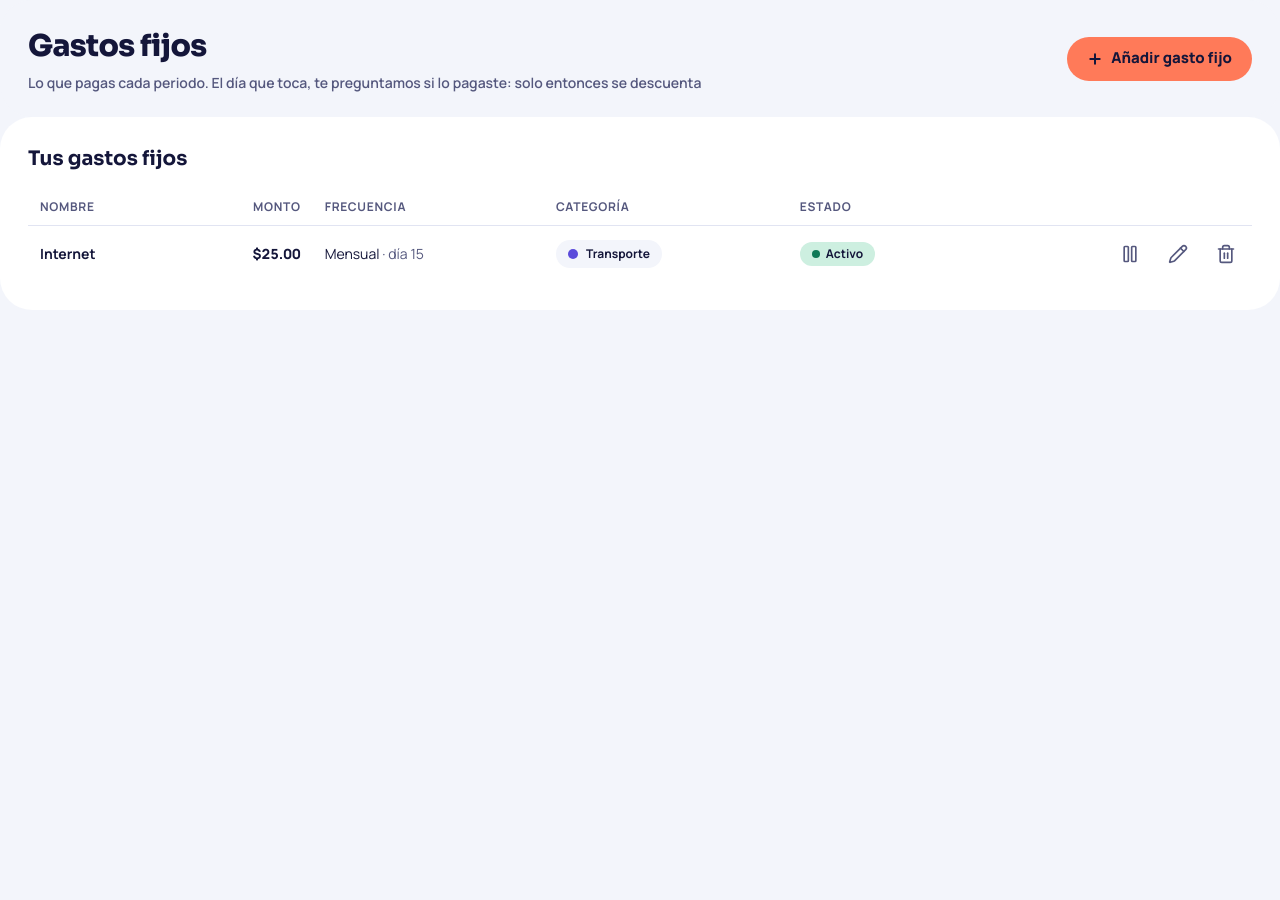
Test case: FixedExpensesPage › asks for the day count when the frequency is custom
The image size is (1280, 900).
Expected: the column heading "Internet" is shown, 28,226 -> 177,282
Click the button "Añadir gasto fijo" at point(1160, 58), box 1067,36 -> 1252,80
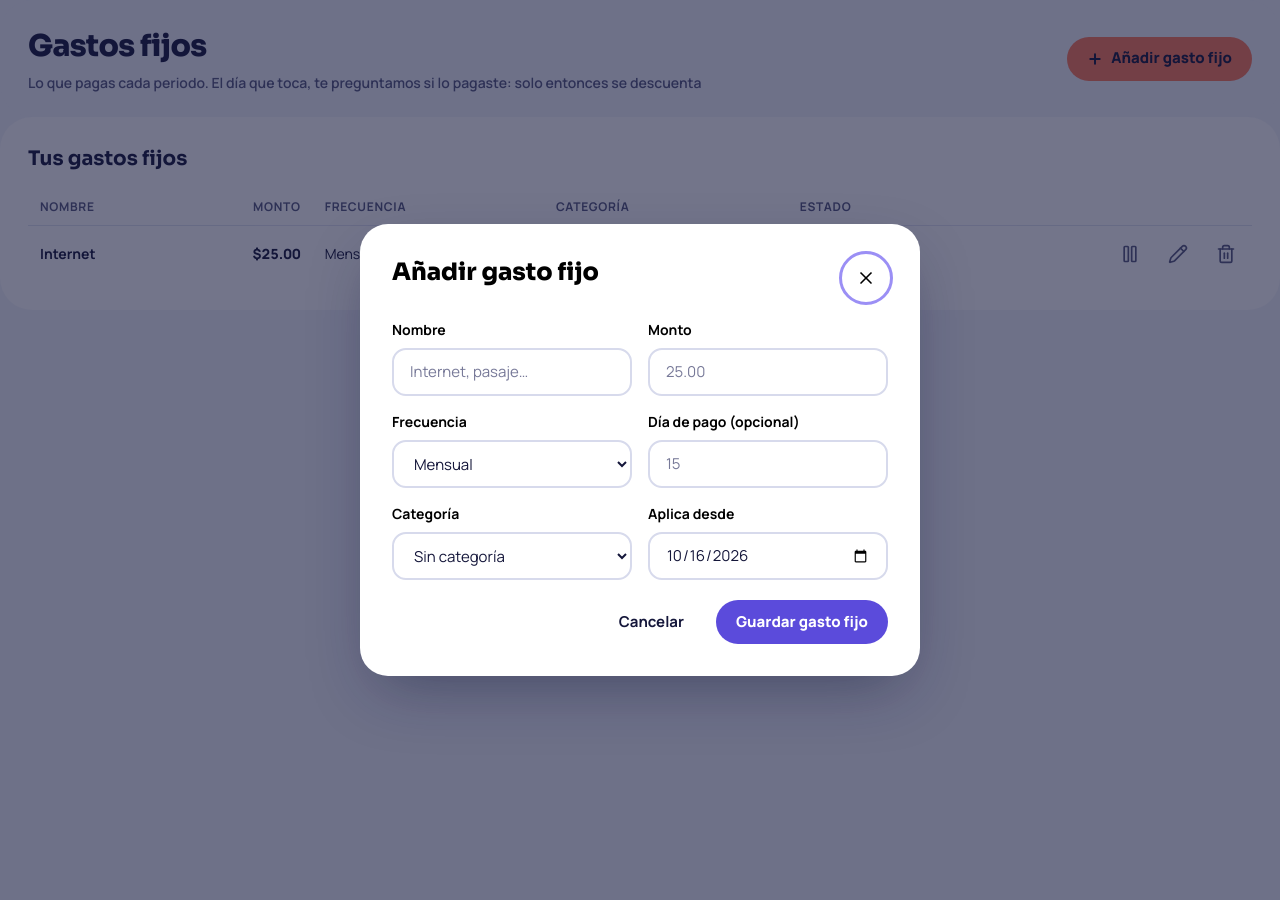
Type "Lavandería" into the field labelled "Nombre" at point(512, 372), box 392,348 -> 632,396
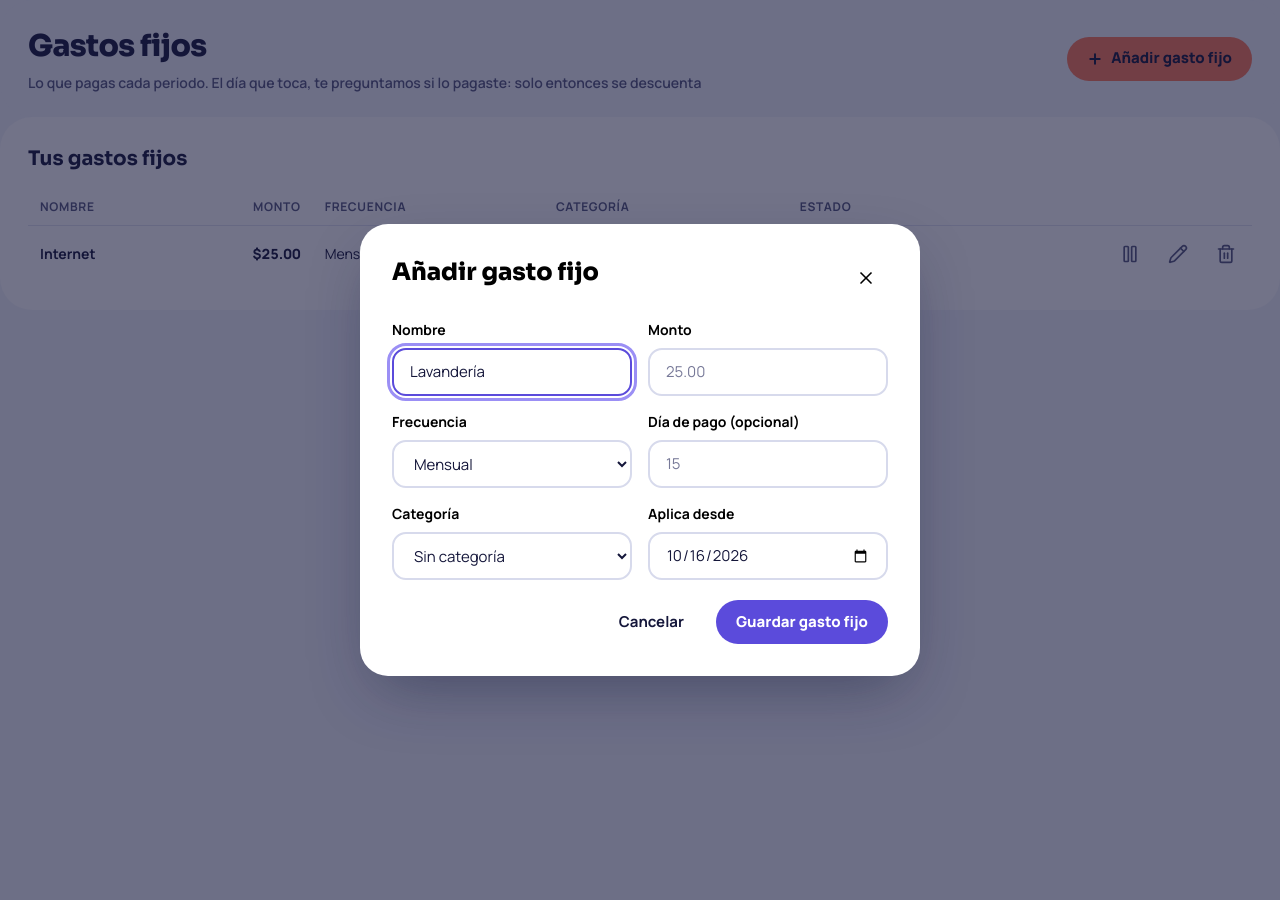
Type "8" into the field labelled "Monto" at point(768, 372), box 648,348 -> 888,396
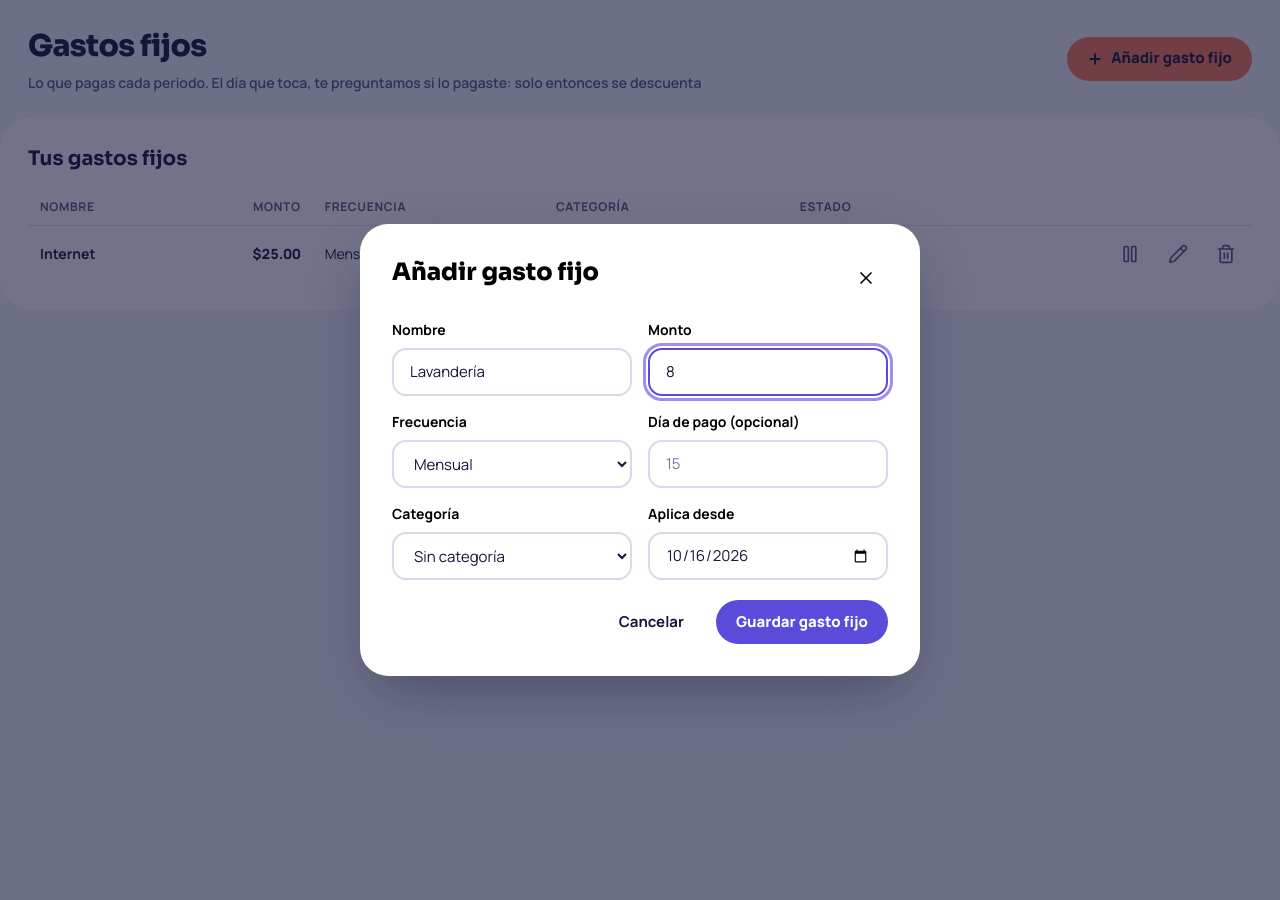
Select "Personalizado" in the dropdown labelled "Frecuencia" at point(512, 464), box 392,440 -> 632,488
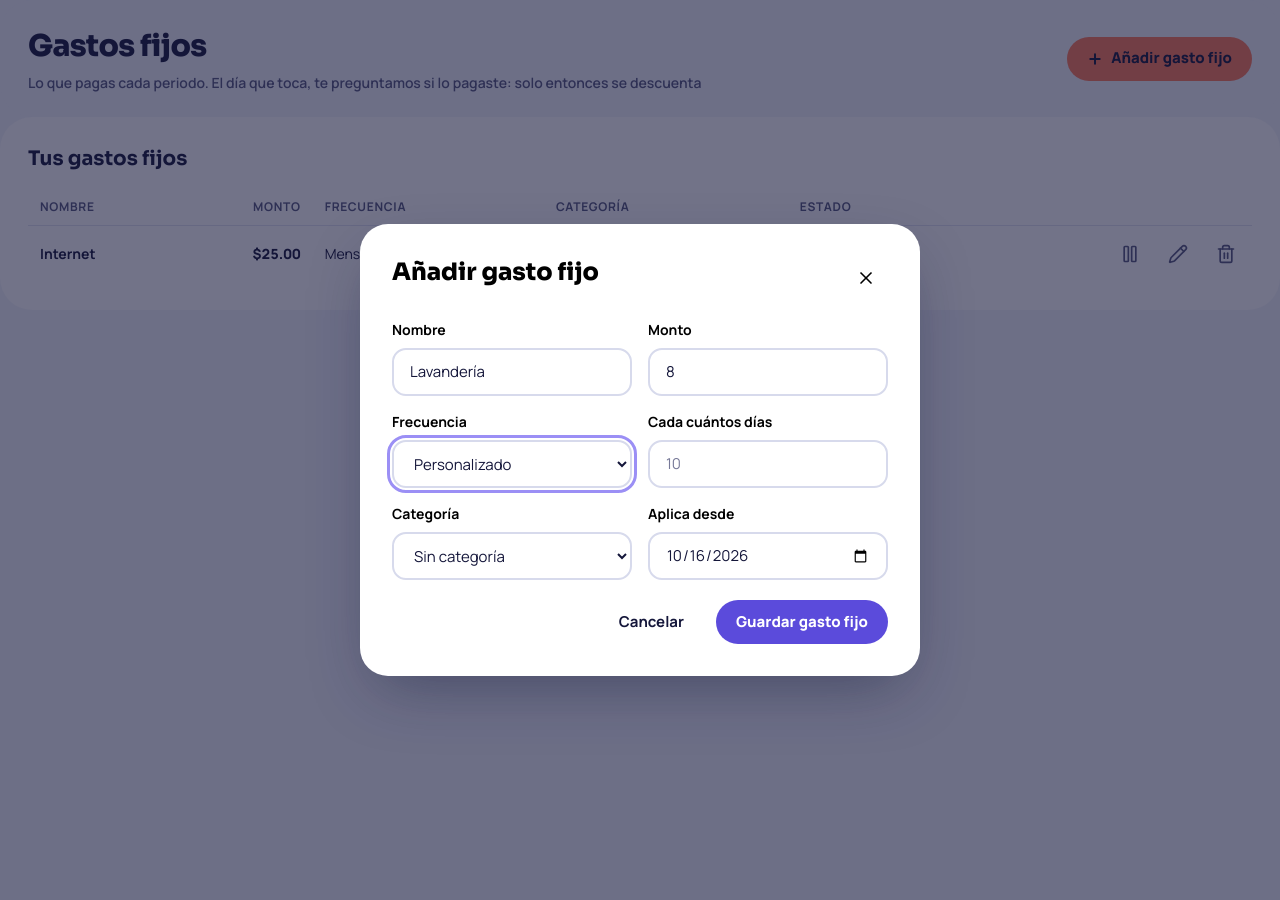
Click the button "Guardar gasto fijo" at point(802, 622), box 716,600 -> 888,644
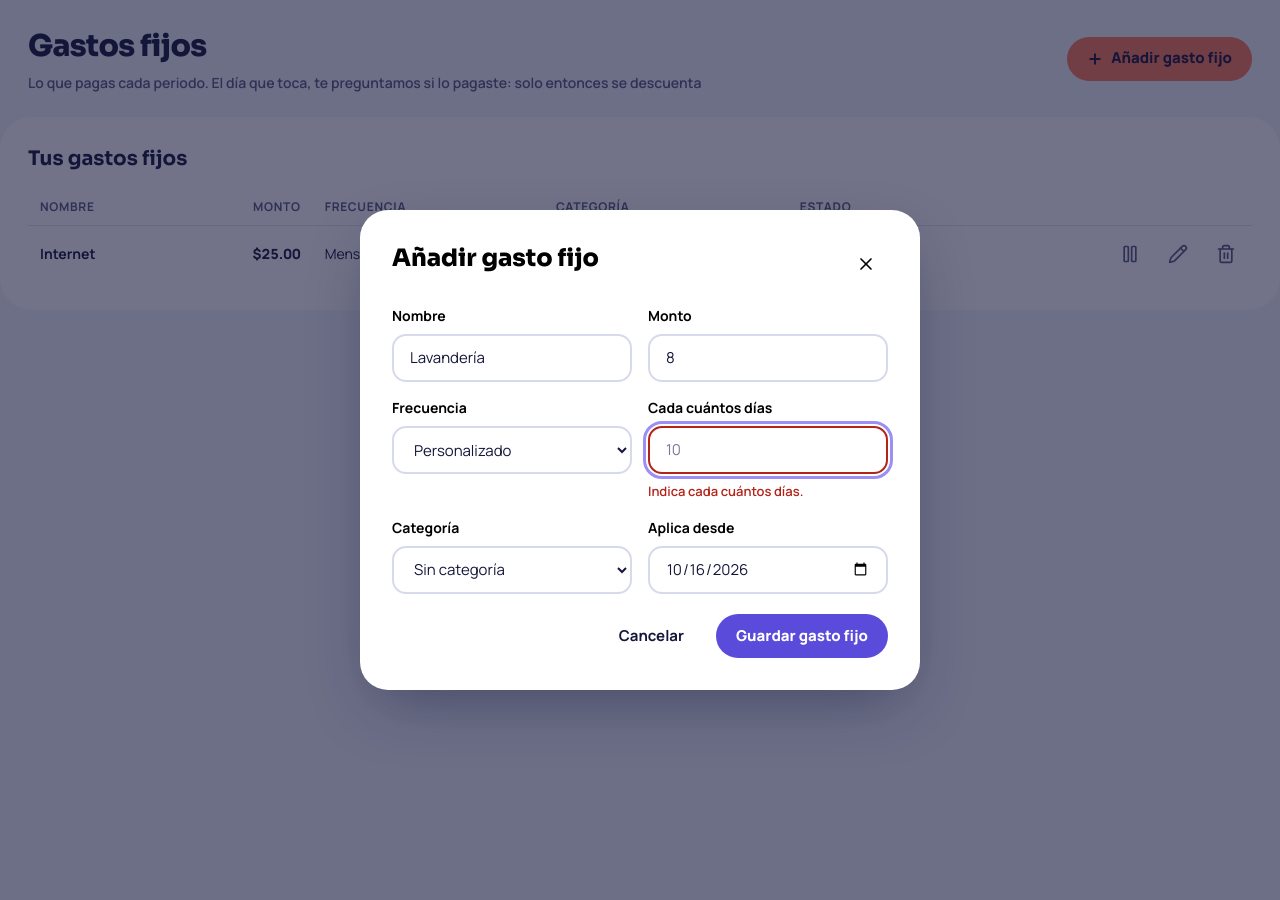
Expected: the text "Indica cada cuántos días." is shown, 648,482 -> 803,500
